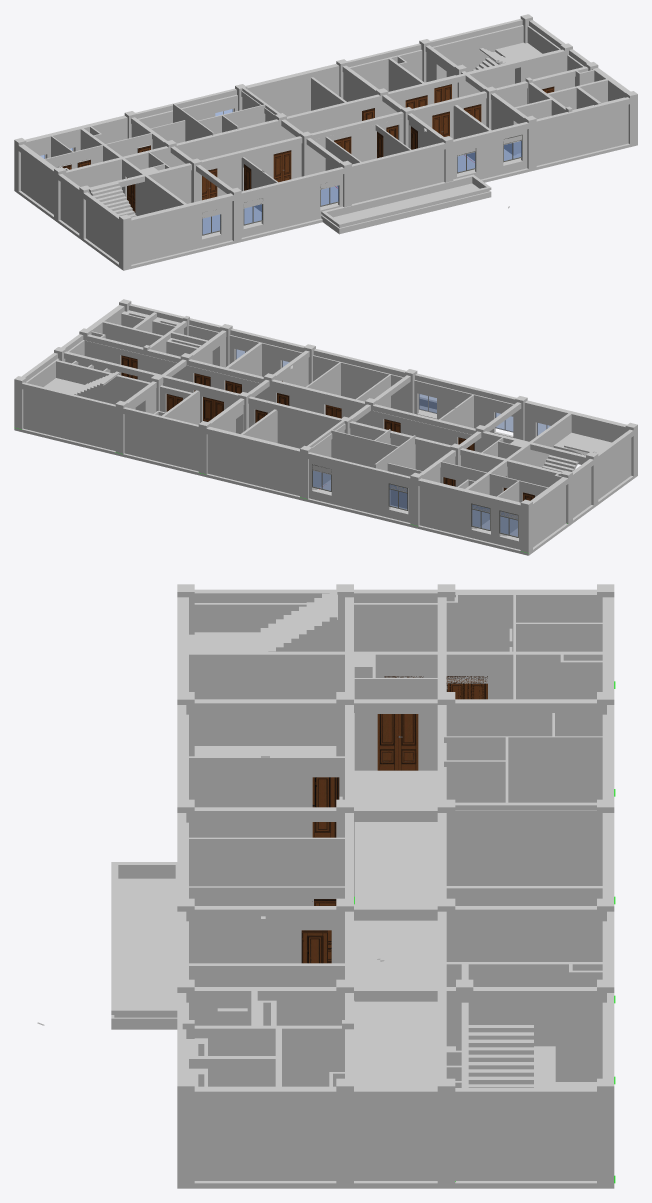
File: tang2_full.glb
The picture shows the model from 3 angles, top to bottom: view 1: azimuth 30°, elevation 25°; view 2: azimuth 150°, elevation 25°; view 3: azimuth 270°, elevation 25°; orthographic projection. The views are drawn at different scales.
Parts seen in each view (by area): view 1: G-Object.022, G-Object.020, G-Object.017, _G-Object.052 (Loose Mesh), G-Object.021, G-Object.019, G-Object.013, G-Object.028, G-Object.015, G-Object.033, G-Object.032; view 2: G-Object.022, G-Object.020, G-Object.017, _G-Object.052 (Loose Mesh), G-Object.019, G-Object.021, G-Object.030, G-Object.036, G-Object.029, G-Object.026, G-Object.034; view 3: G-Object.022, G-Object.020, _G-Object.052 (Loose Mesh), G-Object.017, G-Object.021, G-Object.019, G-Object.025, G-Object.061, G-Object.064.
Part boxes in pixels (left/top/right/bottom): G-Object.022: left=21, top=25, right=628, bottom=264; G-Object.020: left=18, top=19, right=630, bottom=225; G-Object.017: left=14, top=14, right=637, bottom=268; _G-Object.052 (Loose Mesh): left=18, top=143, right=629, bottom=268; G-Object.021: left=472, top=42, right=542, bottom=70; G-Object.019: left=89, top=182, right=136, bottom=217; G-Object.013: left=273, top=150, right=291, bottom=182; G-Object.028: left=503, top=134, right=522, bottom=162; G-Object.015: left=432, top=111, right=449, bottom=136; G-Object.033: left=457, top=148, right=476, bottom=173; G-Object.032: left=243, top=198, right=263, bottom=225; G-Object.022: left=23, top=306, right=631, bottom=549; G-Object.020: left=22, top=304, right=633, bottom=510; G-Object.017: left=14, top=299, right=637, bottom=553; _G-Object.052 (Loose Mesh): left=22, top=428, right=633, bottom=553; G-Object.019: left=542, top=432, right=611, bottom=472; G-Object.021: left=44, top=371, right=119, bottom=395; G-Object.030: left=388, top=483, right=408, bottom=510; G-Object.036: left=471, top=503, right=490, bottom=530; G-Object.029: left=499, top=510, right=518, bottom=537; G-Object.026: left=203, top=397, right=223, bottom=421; G-Object.034: left=312, top=464, right=331, bottom=491; G-Object.022: left=111, top=593, right=606, bottom=1180; G-Object.020: left=177, top=589, right=614, bottom=1102; _G-Object.052 (Loose Mesh): left=194, top=746, right=596, bottom=1188; G-Object.017: left=177, top=584, right=614, bottom=1184; G-Object.021: left=468, top=1025, right=533, bottom=1087; G-Object.019: left=189, top=589, right=337, bottom=651; G-Object.025: left=377, top=714, right=418, bottom=770; G-Object.061: left=312, top=777, right=339, bottom=837; G-Object.064: left=301, top=930, right=327, bottom=963.
Size of the model in its own units: 39.61 by 3.77 by 19.28.
Materials: 11 (5 with a texture image).
